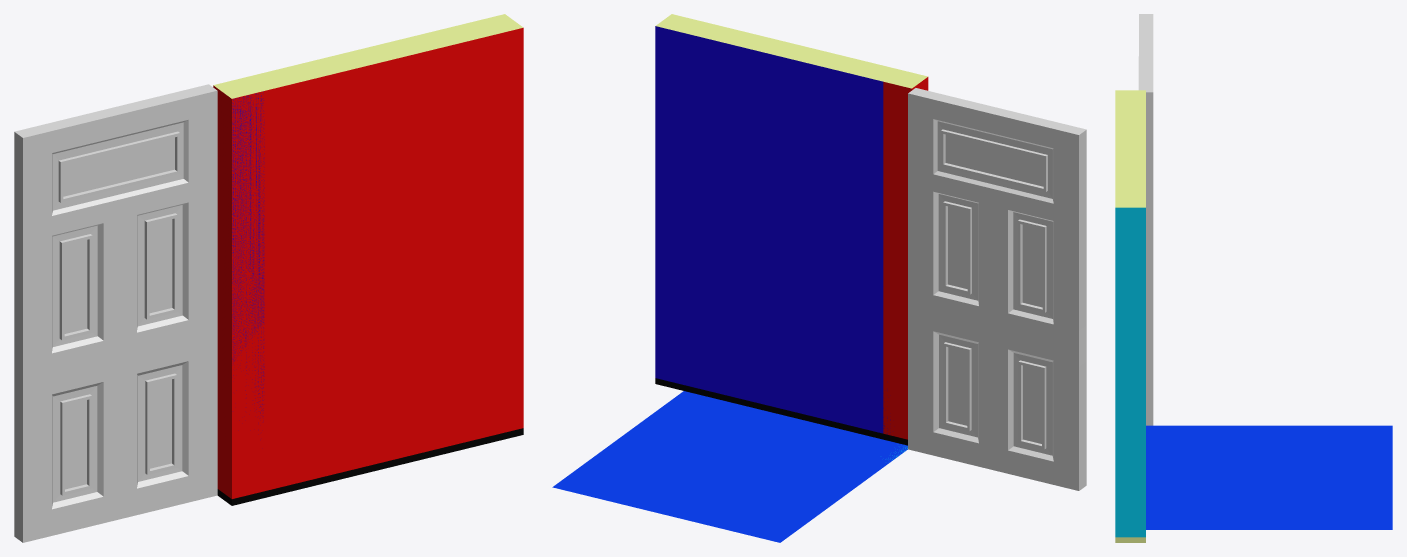
The model's file is Basic_Assets.FBX.
3 renders of one model, left to right at view 1: azimuth 30°, elevation 25°; view 2: azimuth 150°, elevation 25°; view 3: azimuth 270°, elevation 25°, orthographic. The views are drawn at different scales.
Parts seen in each view (by area): view 1: Door, Wall, Wall001, WallS; view 2: Wall, Door, Floor, WallS, Wall001; view 3: Floor, Wall, Door, Wall001.
Part boxes in pixels (box(x1,y1,x2,y2)): Door: box(14, 84, 217, 542); Wall: box(264, 14, 523, 449); Wall001: box(213, 22, 491, 505); WallS: box(213, 85, 264, 505); Wall: box(655, 14, 883, 439); Door: box(908, 88, 1086, 490); Floor: box(552, 391, 907, 542); WallS: box(883, 77, 928, 445); Wall001: box(684, 21, 927, 439); Floor: box(1146, 425, 1392, 529); Wall: box(1115, 194, 1145, 542); Door: box(1138, 14, 1153, 425); Wall001: box(1115, 90, 1145, 194).
Bounding box in the file's own units: 3.75 × 3 × 2.25.
